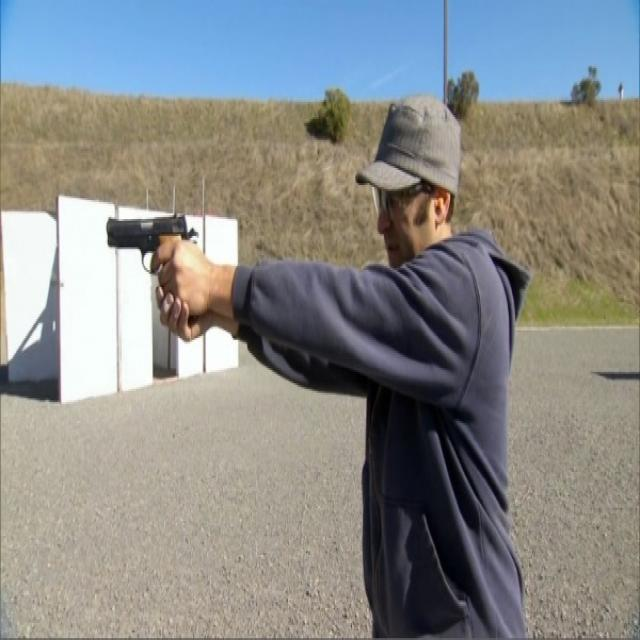weapons: (103, 192, 199, 331)
